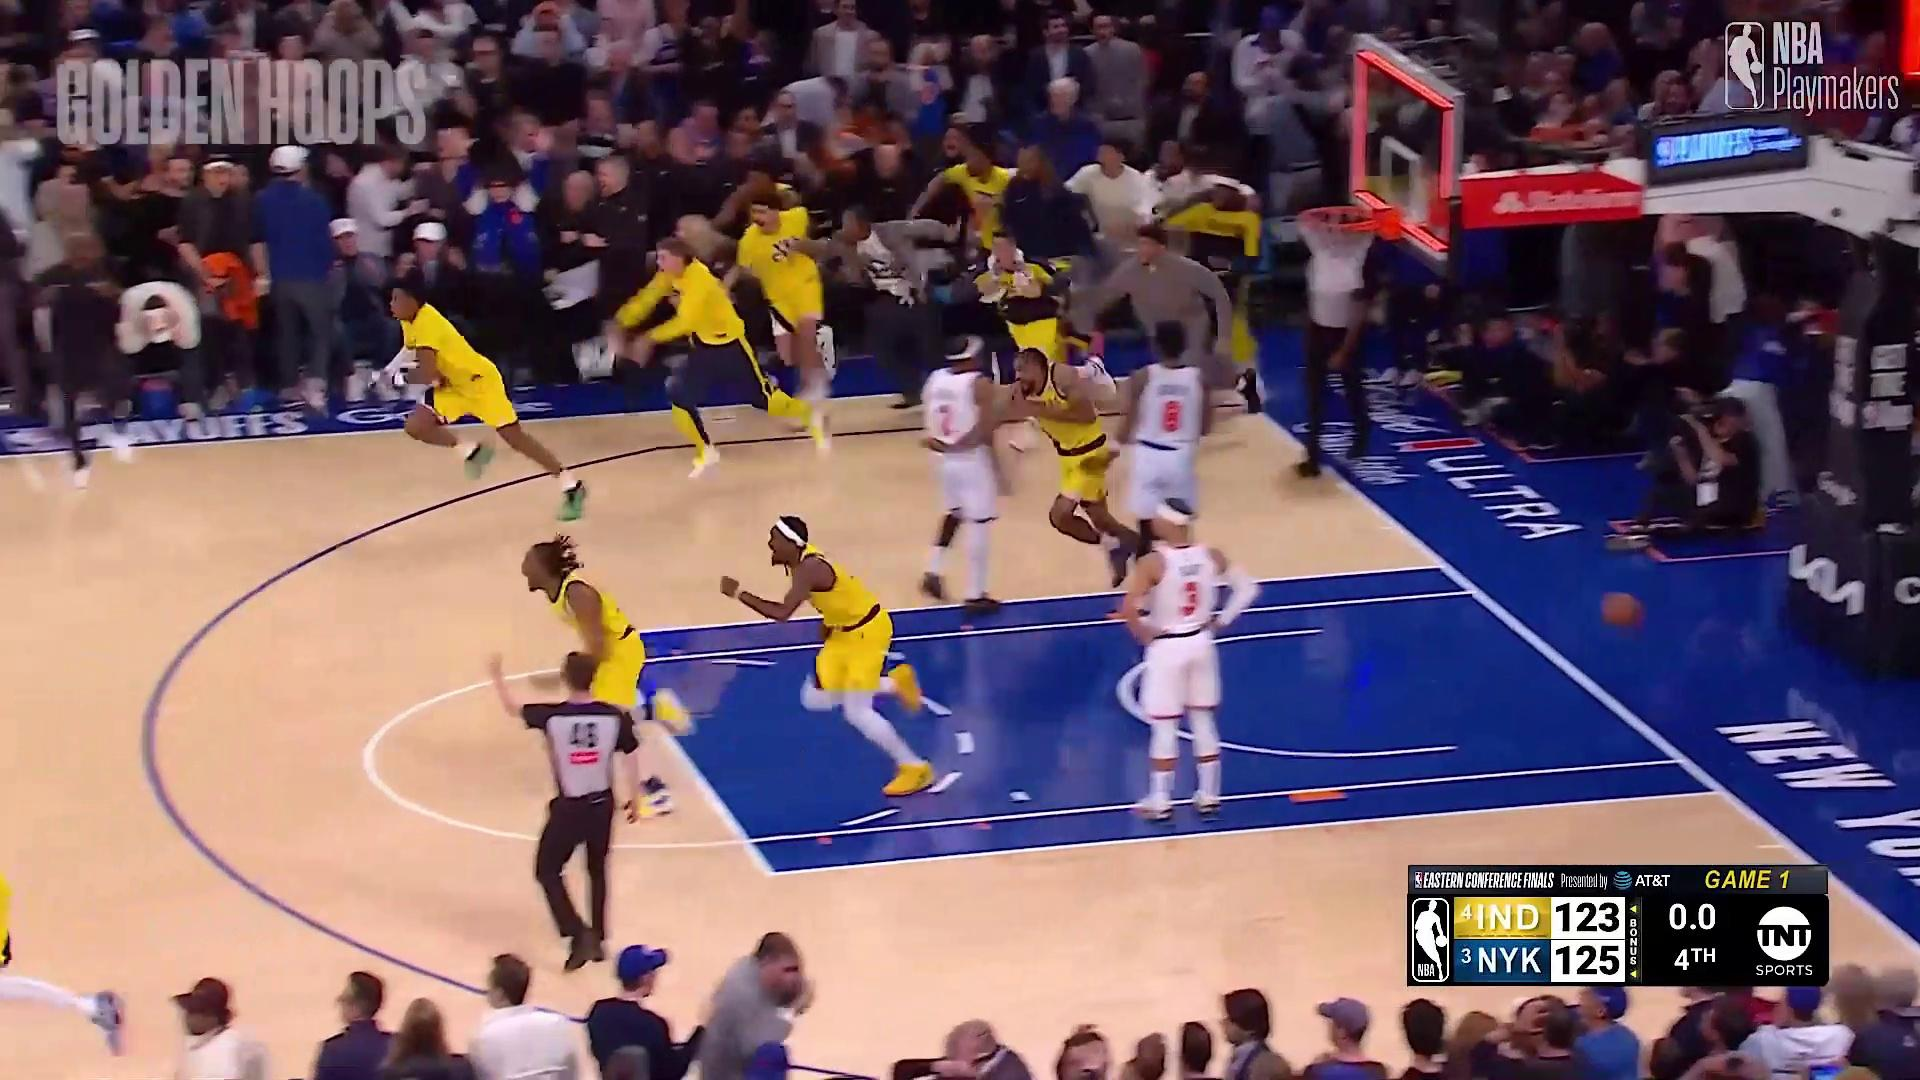ball: (1604, 584, 1638, 633)
hoop: (1288, 186, 1379, 298)
